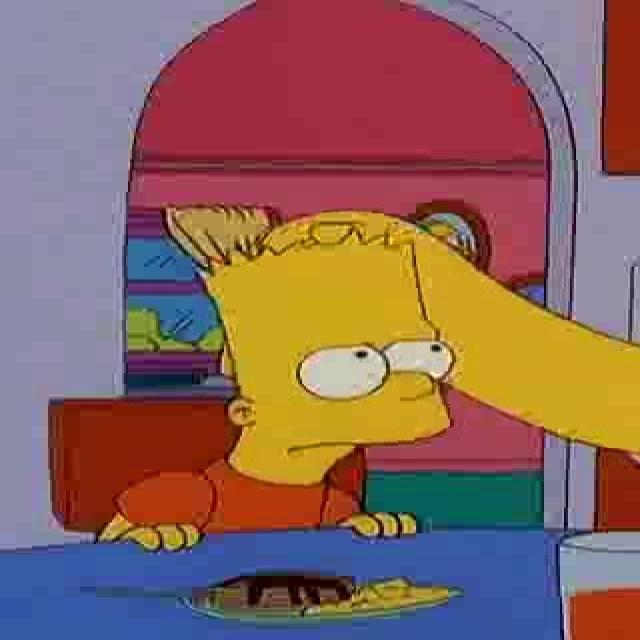Bart Simpson: (194, 230, 458, 490)
